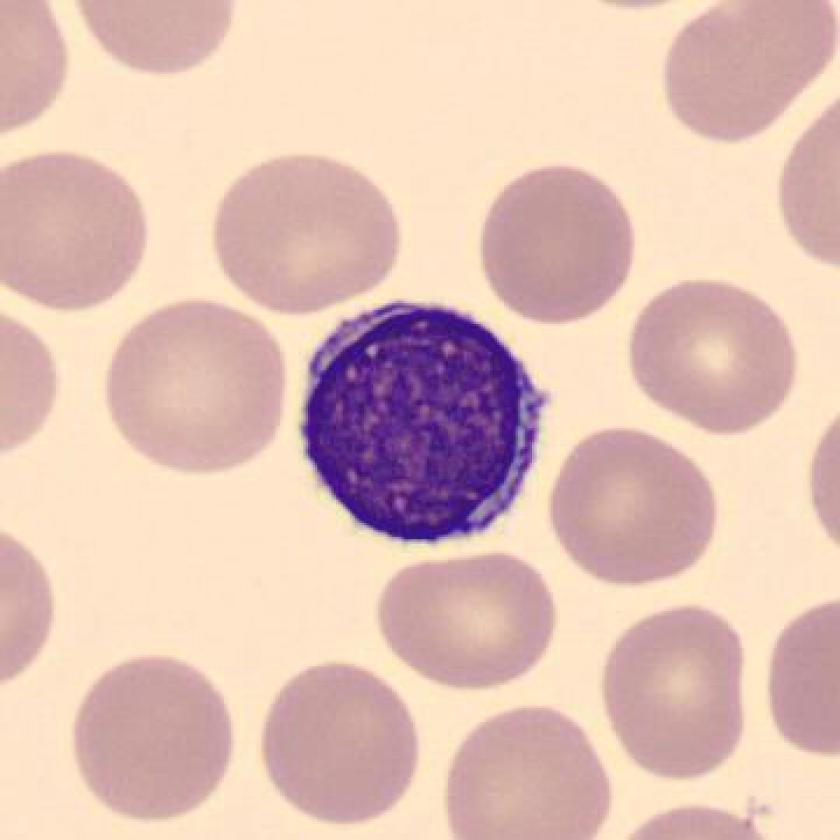lymphocyte: (284, 272, 564, 566)
